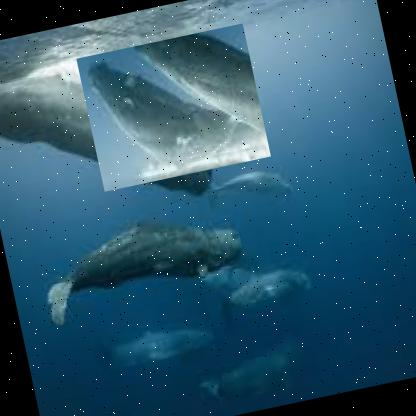sperm_whale: (0, 29, 219, 238), (20, 188, 264, 342), (75, 23, 271, 192)
